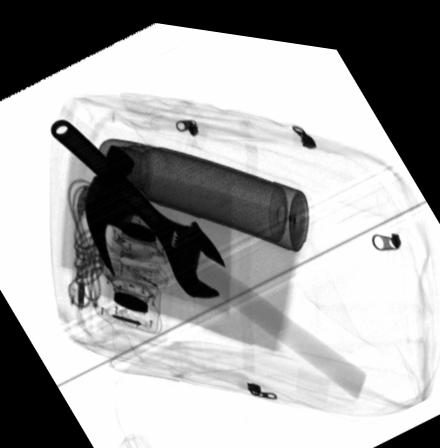Hammer: (85, 139, 367, 389)
Wrench: (50, 116, 225, 291)
